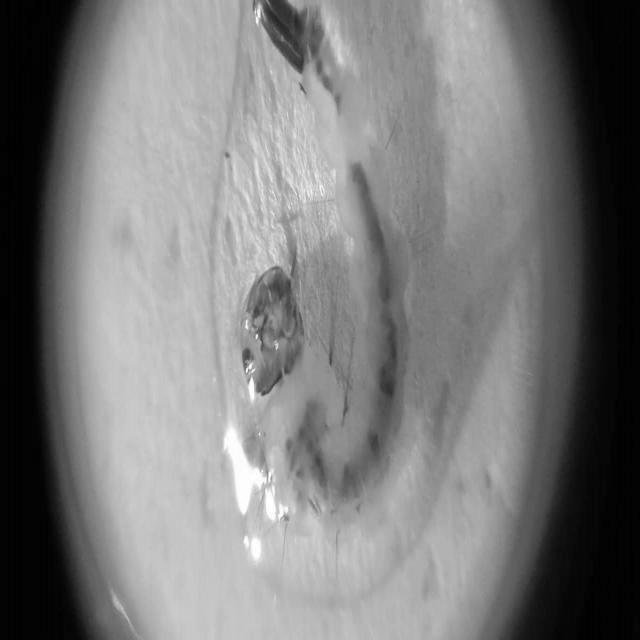larvas: (233, 0, 416, 531)
